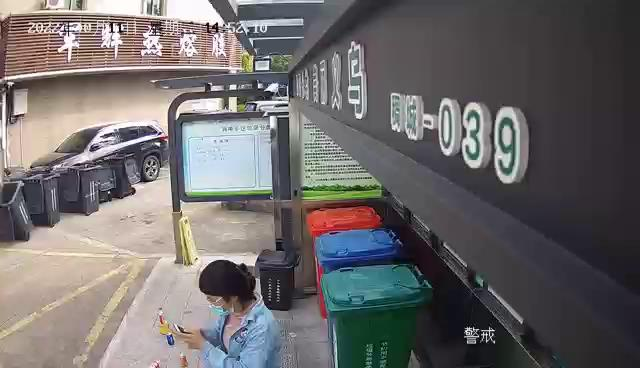lvzhipin: (178, 350, 187, 368), (166, 332, 175, 346)
suliaozhipin: (157, 304, 169, 335)
worker: (168, 258, 283, 368)
